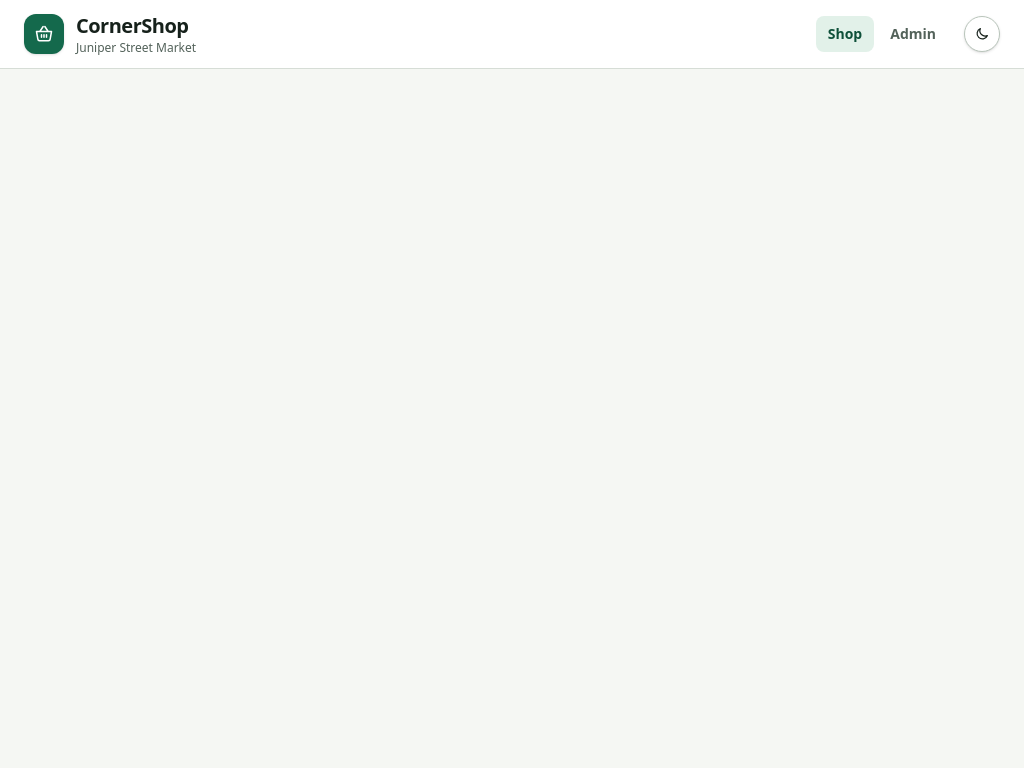
the header › is switched by the header button, and remembered
Later steps or results of the test are not shown.
Click the button named "Toggle theme".
click(982, 34)  # box [964,16,1000,52]
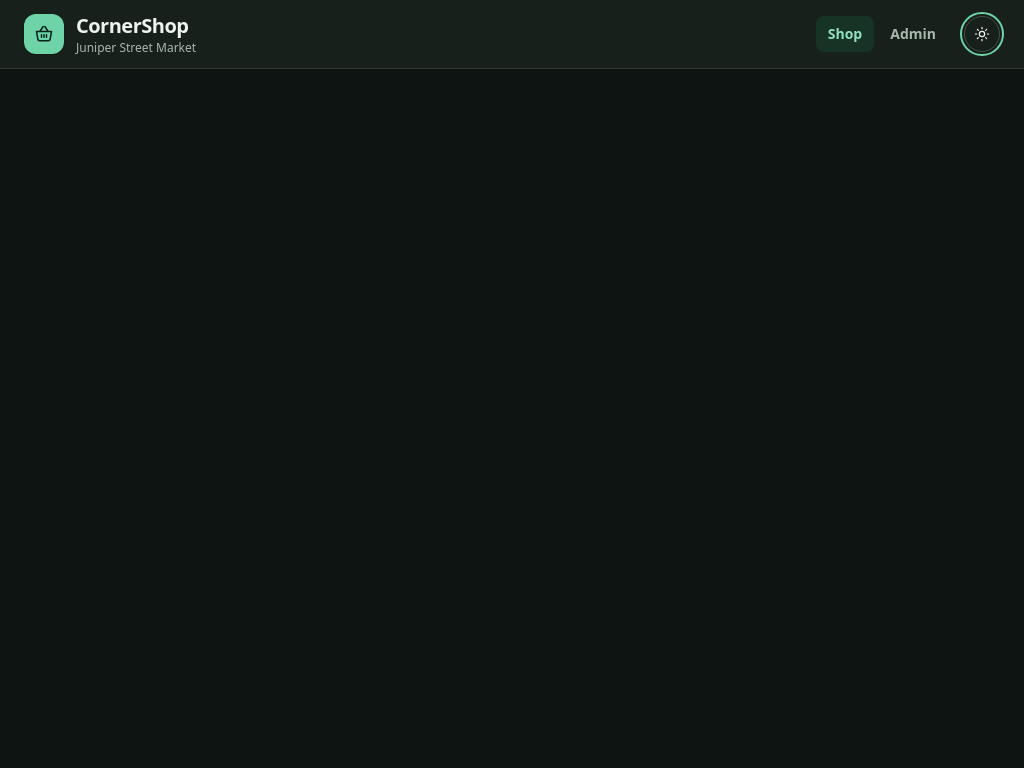
Check: the button named "Toggle theme" is pressed, box [964,16,1000,52]
